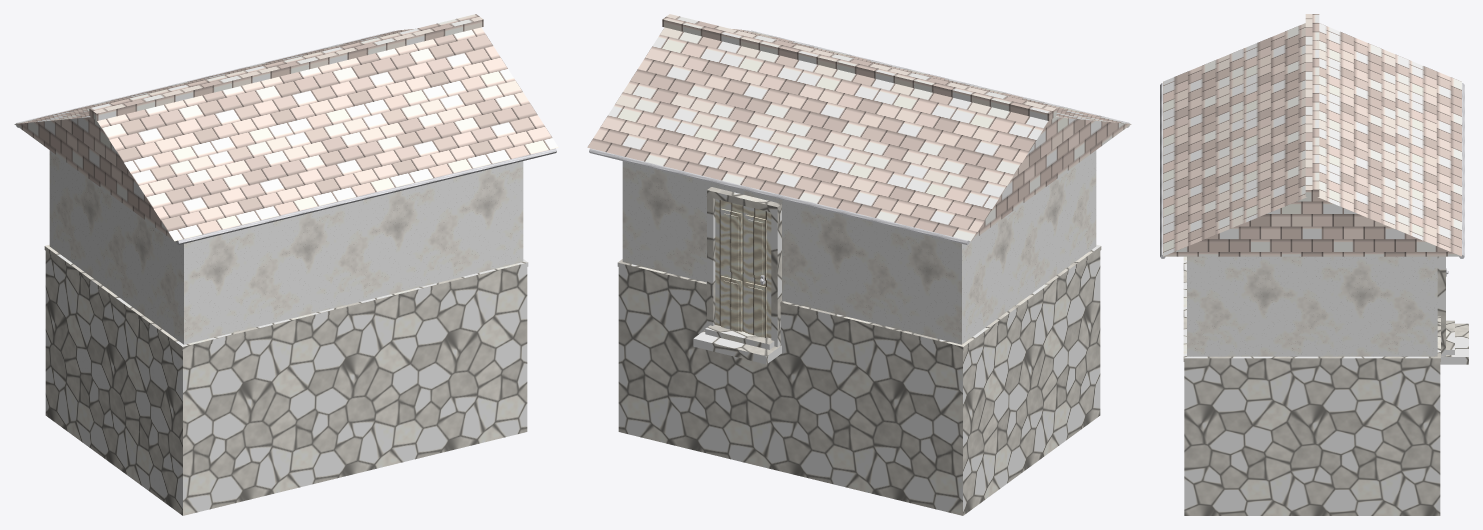
The picture shows the model from 3 angles, left to right: view 1: azimuth 30°, elevation 25°; view 2: azimuth 150°, elevation 25°; view 3: azimuth 270°, elevation 25°; orthographic projection. The views are drawn at different scales.
Parts seen in each view (by area): view 1: b1096729690; view 2: b1096729690; view 3: b1096729690.
Boxes of the visible parts, x1,y1,x2,y2 form: b1096729690: (14,14,558,515); b1096729690: (587,14,1131,515); b1096729690: (1160,14,1468,515).
Size of the model in its own units: 6.02 by 5.35 by 4.46.
Materials: 11 (11 with a texture image).
